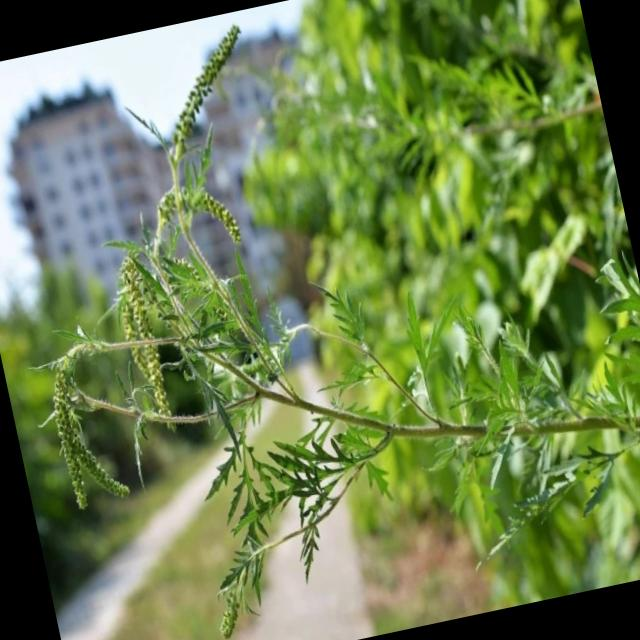ambrosia: (220, 239, 640, 605), (102, 24, 318, 343), (19, 300, 160, 550)
